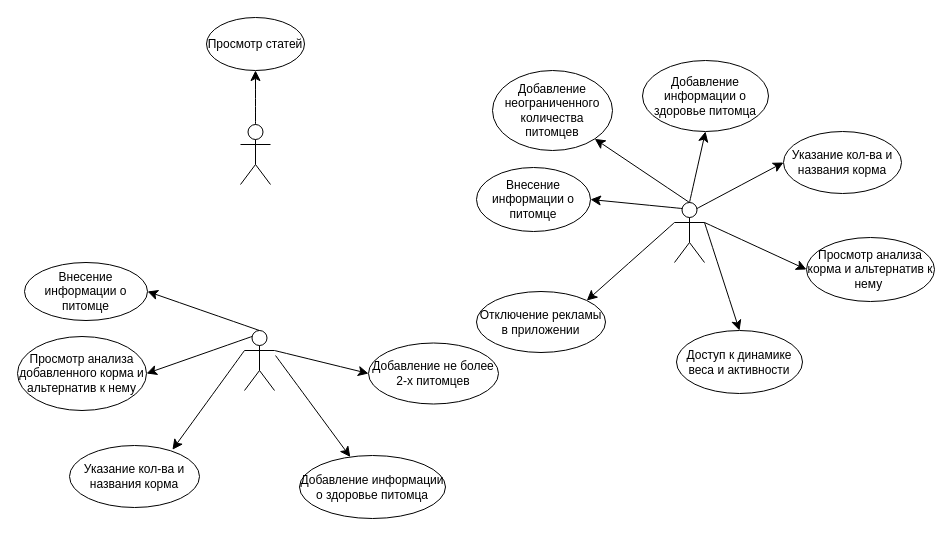
Image size: 952x536. Some labels were removed from this diagram. Here are the shapes that lost their labels. From the top down, the centre of each, then its label:
At (255,154): "Неавторизованный пользователь".
At (689,232): "Премиум пользователь".
At (259,360): "Авторизованный пользователь".
